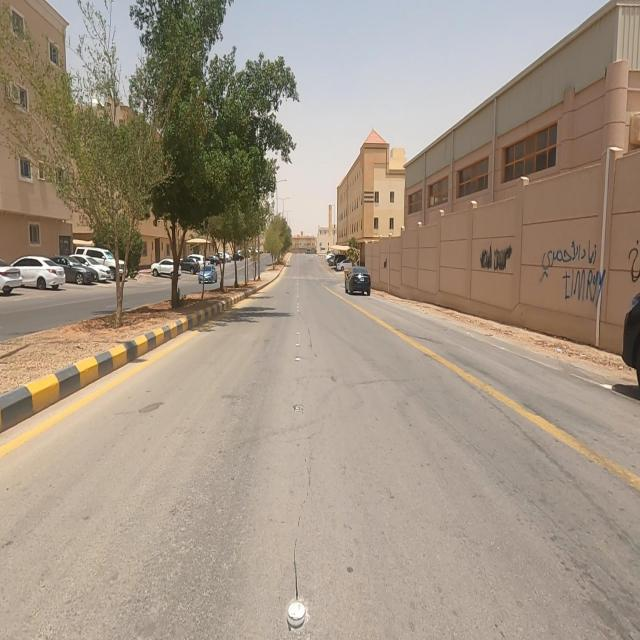Graffiti: (541, 239, 607, 308), (480, 245, 512, 272), (627, 235, 640, 283)
